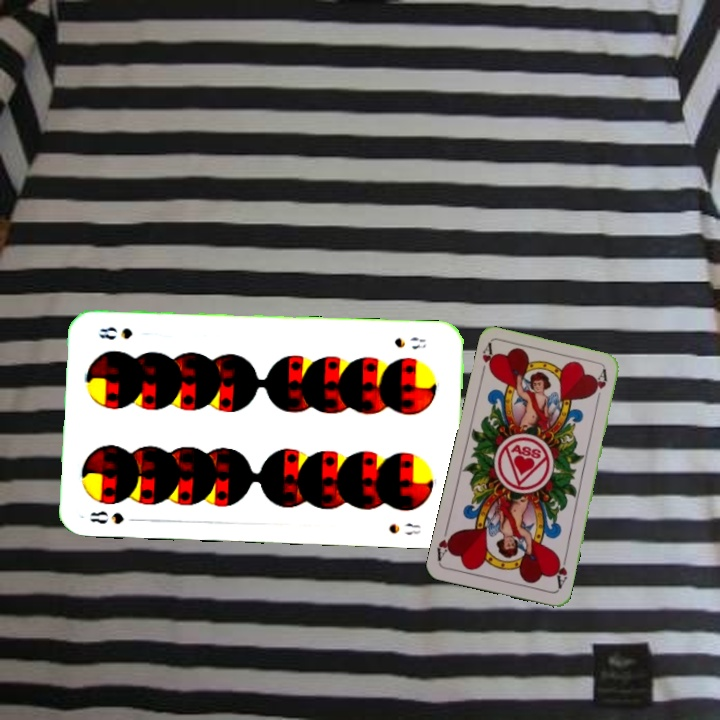HA: (476, 340, 498, 380), (551, 551, 570, 591)
S8: (86, 507, 142, 527), (390, 333, 428, 352)
